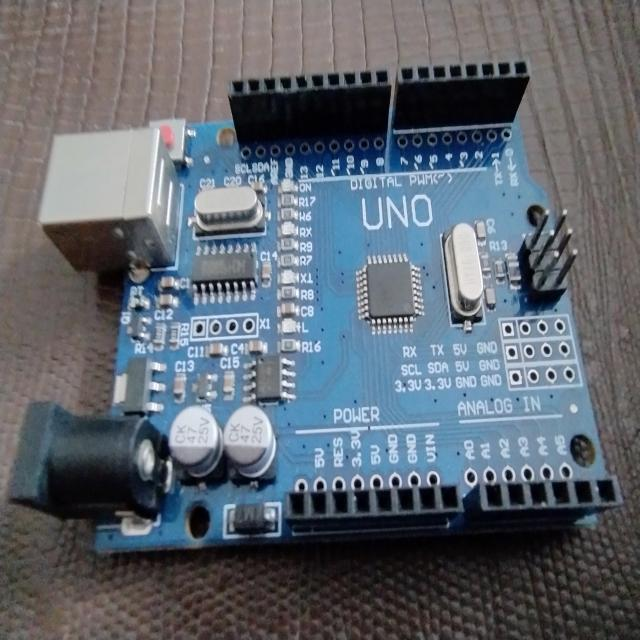arduino: (0, 55, 627, 561)
